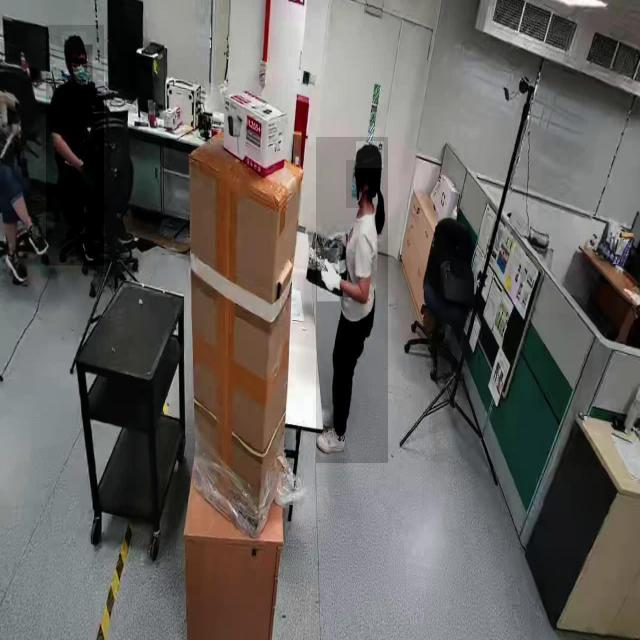face_mask: (69, 44, 93, 90), (346, 160, 364, 208)
hand_glove: (317, 248, 339, 301)
head_nohelmet: (356, 141, 384, 169), (63, 31, 87, 53)
person: (316, 137, 388, 464), (46, 25, 104, 267)
shoes: (3, 248, 31, 291), (316, 424, 346, 456), (26, 220, 48, 258)
